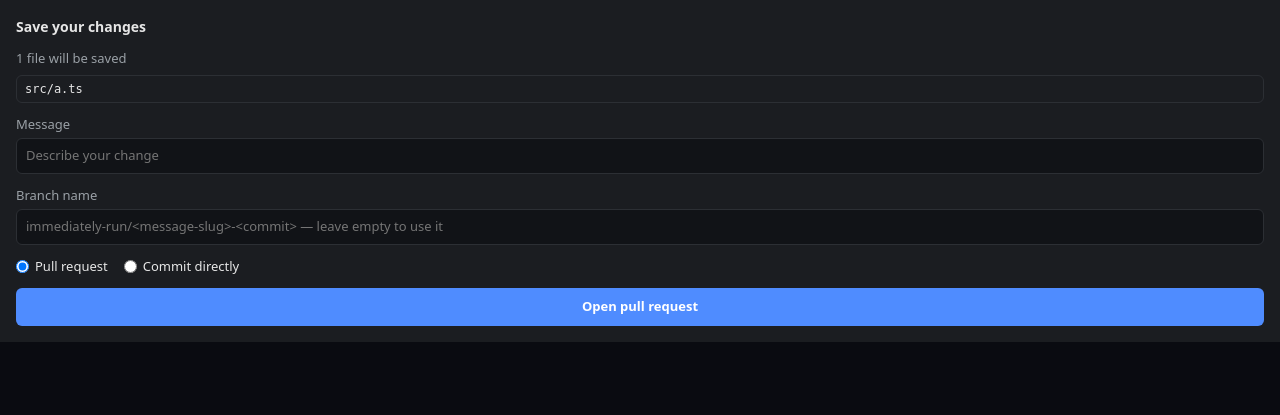
Test: Contribute — the recovery actions (R3-994, CONTRIBUTE_SPEC §12) › a refused resume surfaces the thrown message, not the canned permission copy (round-1 review)
Click the button "Open pull request" at (640, 307), box [16, 288, 1264, 326]
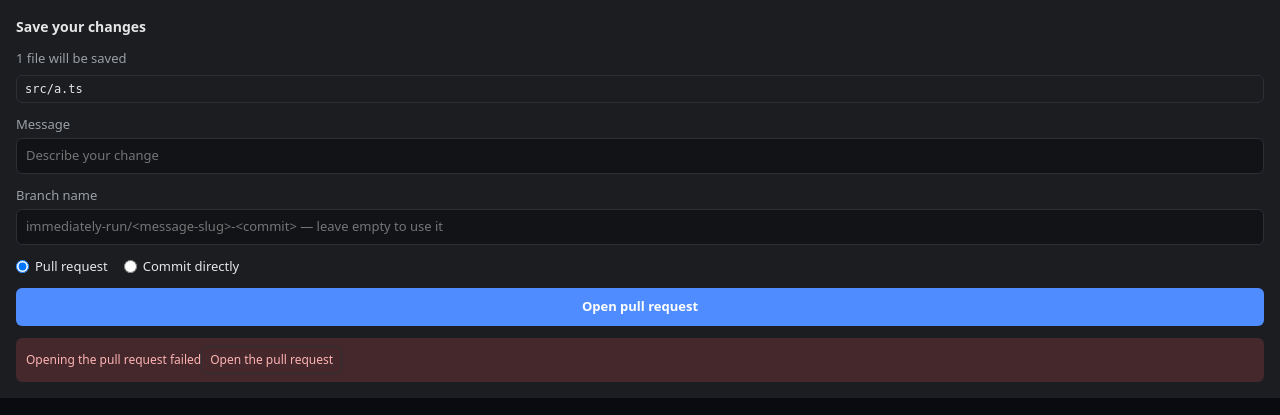
Click the button "Open the pull request" at (272, 360), box [201, 346, 342, 374]
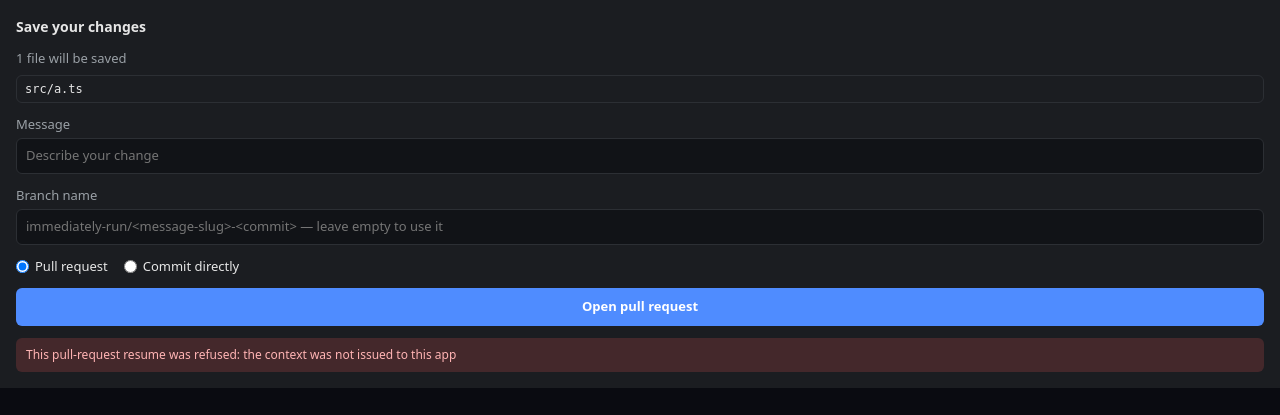
Check: the text "This pull-request resume was refused: the context was not issued to this app" is shown, box [16, 338, 1264, 372]
